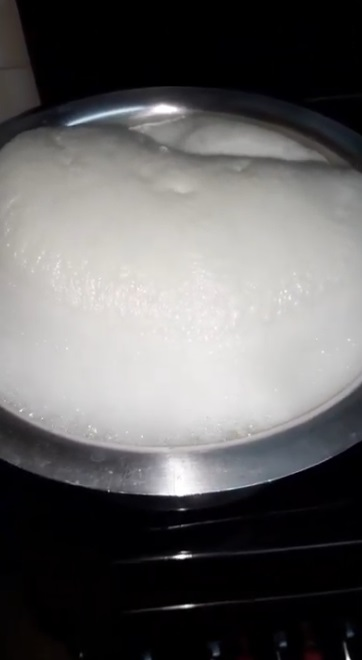Boiled: (8, 104, 357, 482)
